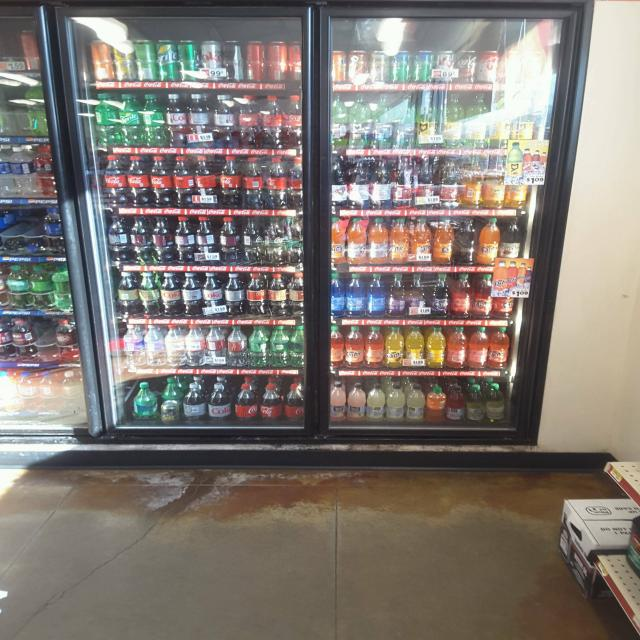unorganised: (347, 217, 389, 263), (186, 93, 212, 148), (193, 151, 218, 207), (212, 92, 236, 149), (169, 154, 194, 207), (241, 157, 262, 209), (222, 270, 244, 315), (181, 272, 202, 318), (419, 159, 439, 207)
